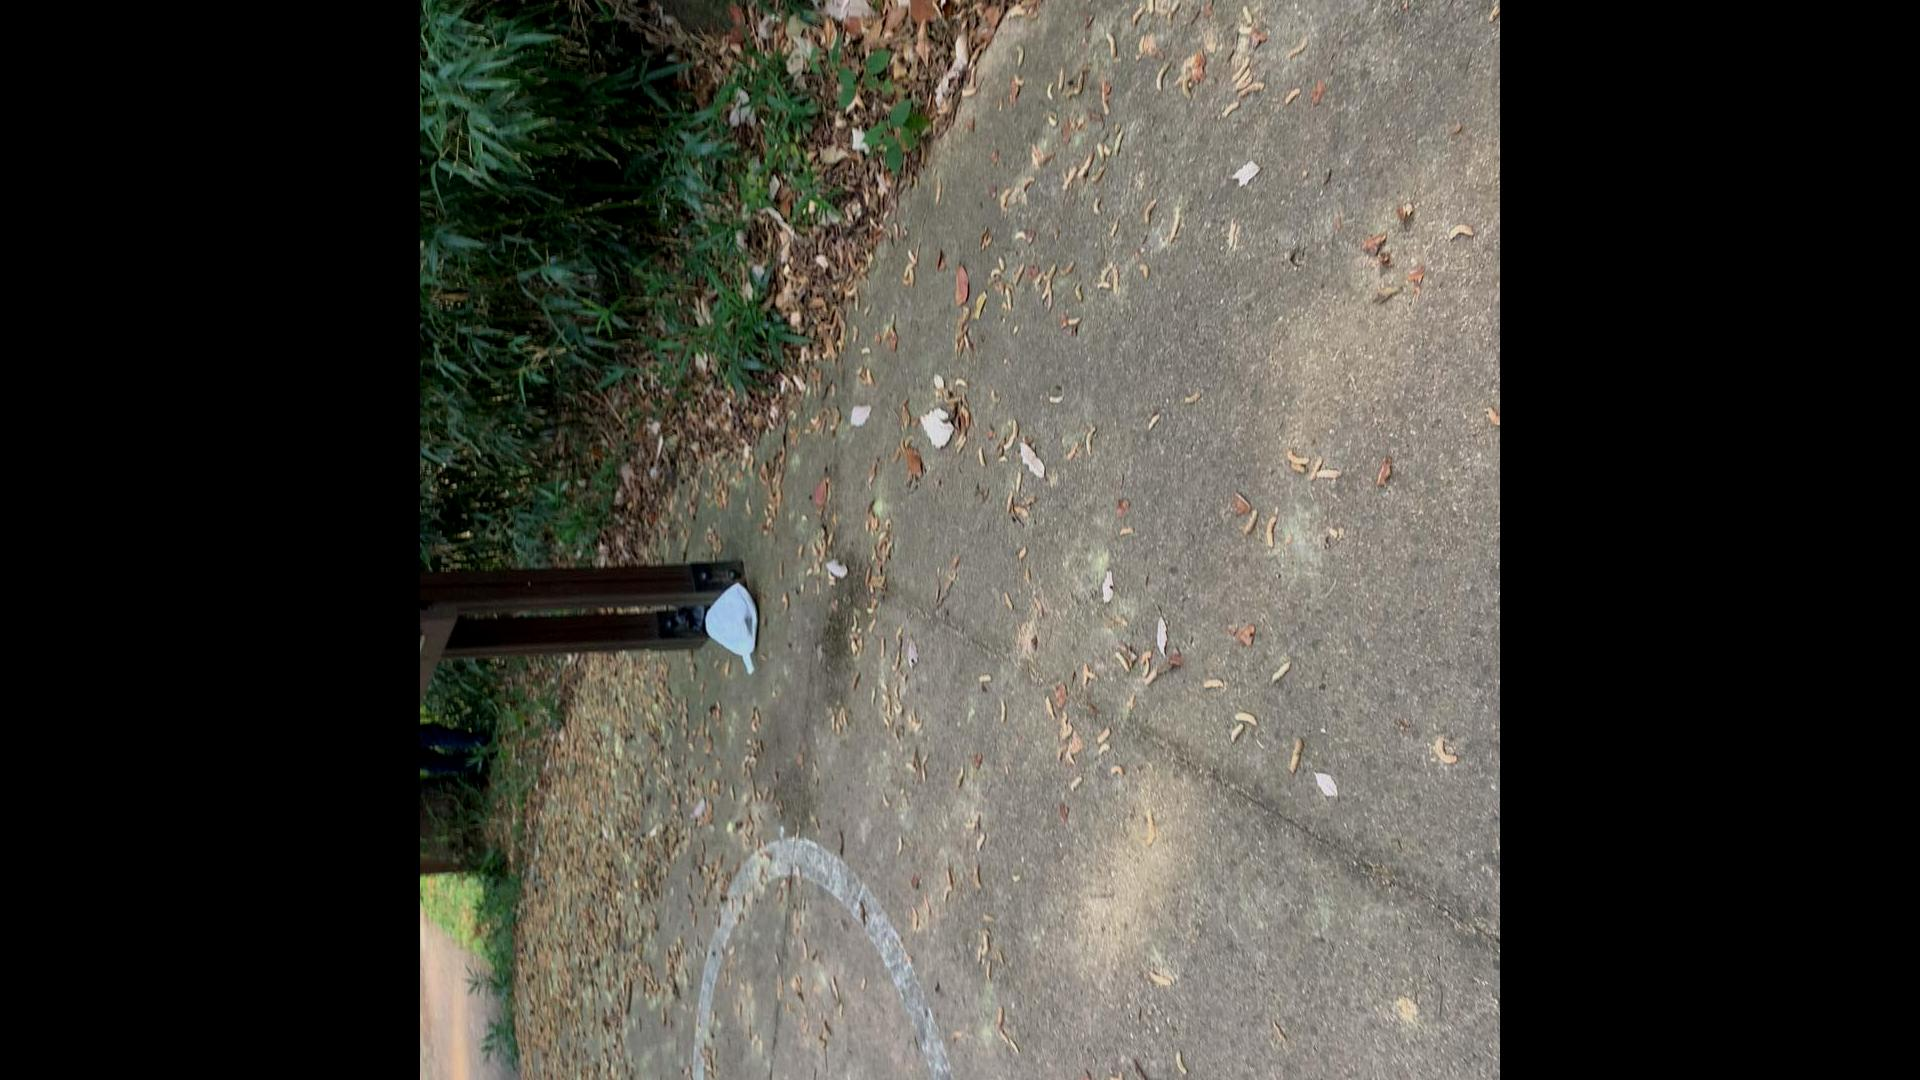white_bag: (702, 582, 764, 683)
